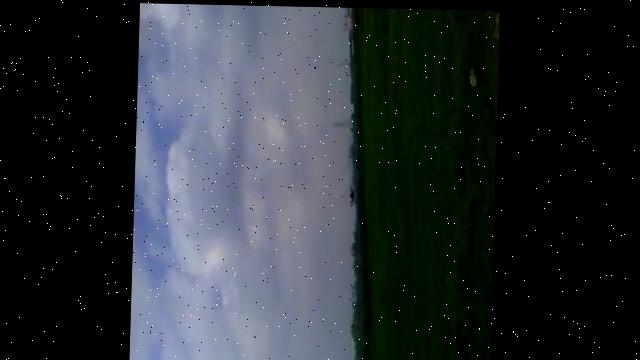drone: (345, 182, 358, 206)
